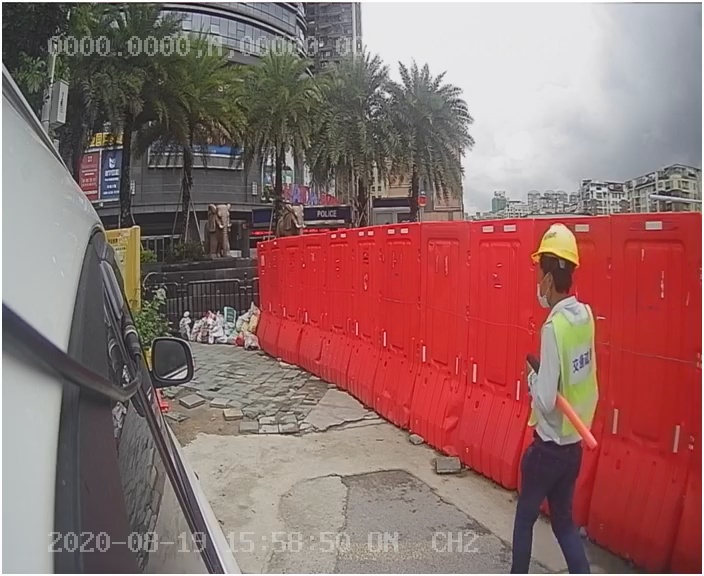person: (489, 221, 623, 566)
